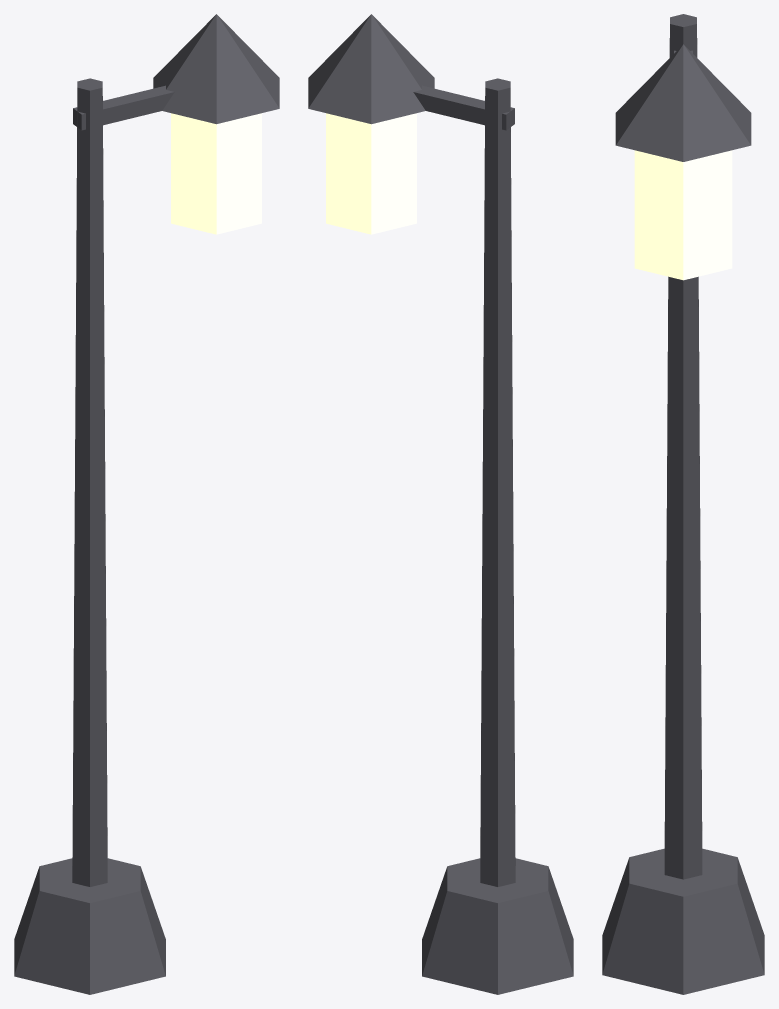
File: lamp.glb
3 views of the same model, side by side, from view 1: azimuth 30°, elevation 25°; view 2: azimuth 150°, elevation 25°; view 3: azimuth 270°, elevation 25° (orthographic). The views are drawn at different scales.
Visible parts, largest first — view 1: lamp; view 2: lamp; view 3: lamp.
Boxes of the visible parts, x1,y1,x2,y2 form: lamp: (14,14,279,994); lamp: (308,14,573,994); lamp: (602,14,764,994).
Bounding box in the file's own units: 1.05 × 3.45 × 0.5196.
